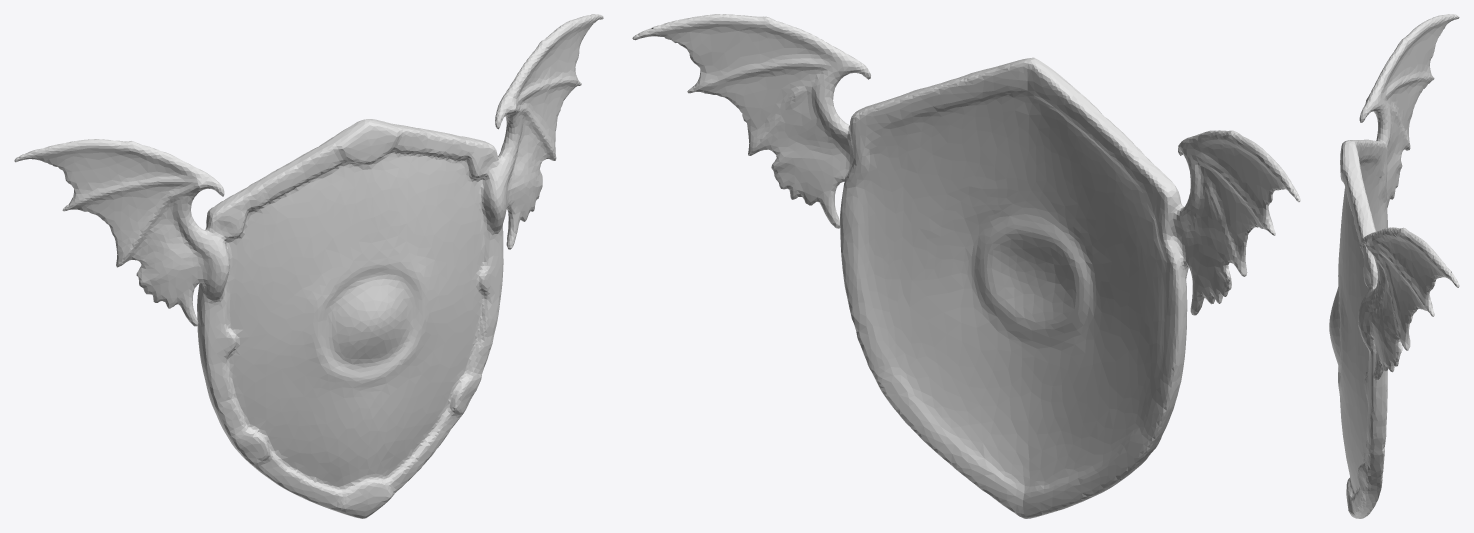
Rendered from orn_shield01.glb.
3 views of the same model, side by side, from view 1: azimuth 30°, elevation 25°; view 2: azimuth 150°, elevation 25°; view 3: azimuth 270°, elevation 25° (orthographic). The views are drawn at different scales.
Parts seen in each view (by area): view 1: Low; view 2: Low; view 3: Low.
Boxes of the visible parts, left/top/right/bottom form: Low: left=14, top=14, right=603, bottom=518; Low: left=632, top=14, right=1300, bottom=518; Low: left=1329, top=14, right=1459, bottom=518.
Bounding box in the file's own units: 1.99 × 1.33 × 0.4059.
1 material, 1 textured.
